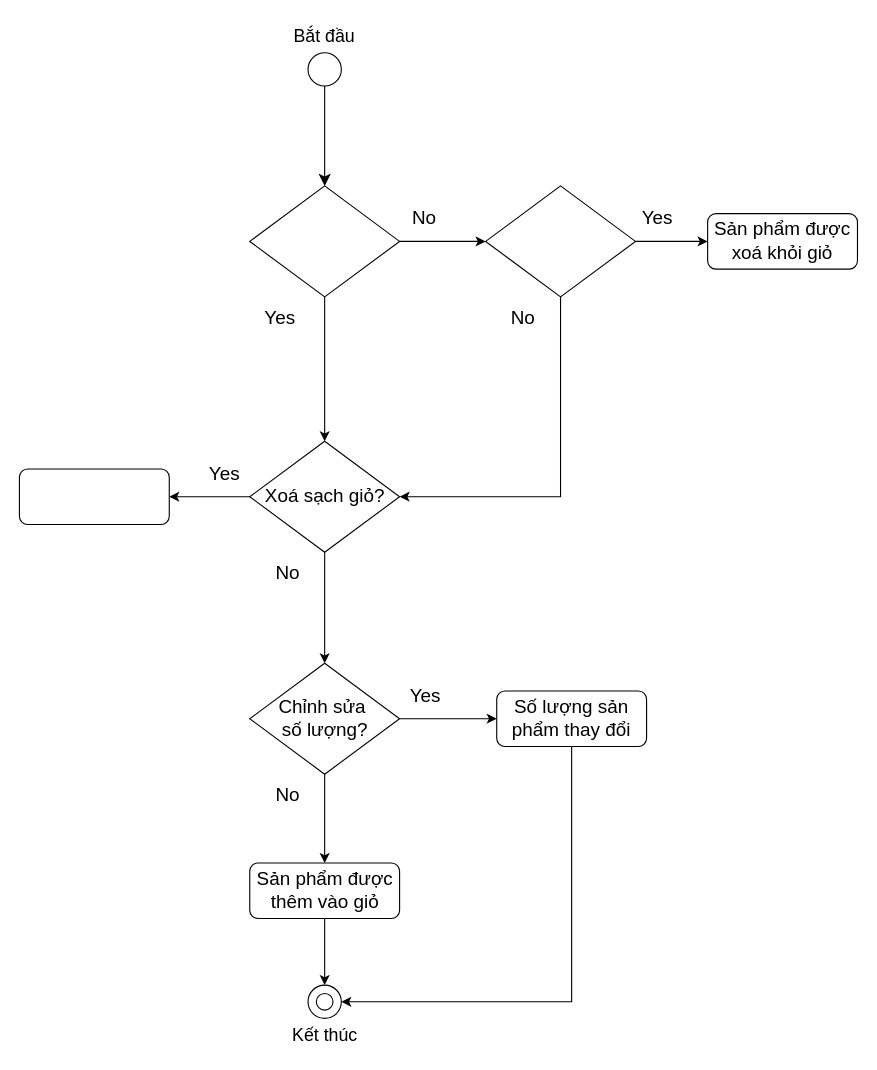
Some shapes in this 877 by 1070 pixel diagram are drawn without their labels. Here are the shapes that lost their labels. From the top down, the centre of each, then its label:
[324,241]: Thêm vào giỏ?
[560,241]: Xoá khỏi giỏ?
[93,496]: Giỏ hàng rỗng
